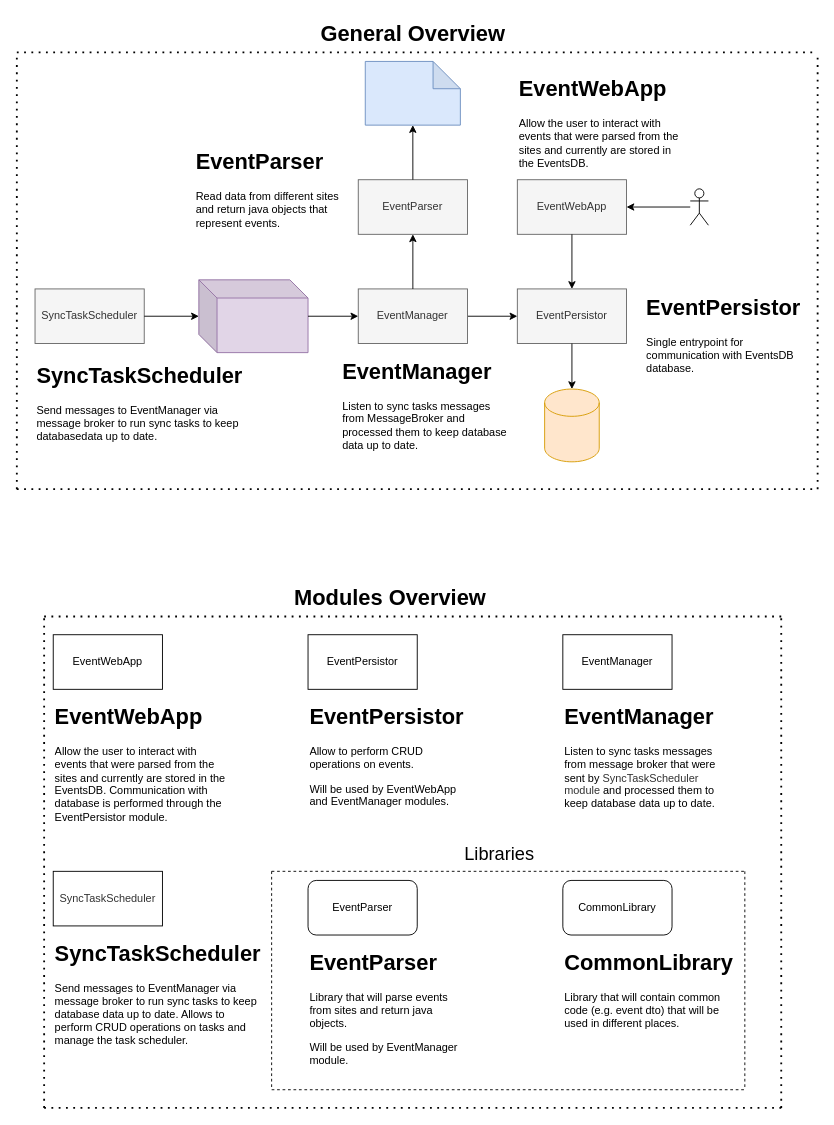
Image size: 834x1125. Some labels were removed from this diagram. The shapes that lost their labels are listed below. From the top down, each one's box as (x1, y1, x2, y2) in pixels, then its label:
(364, 61, 460, 125): SitesWithEvents
(689, 188, 708, 225): User
(198, 279, 308, 353): MessageBroker
(544, 388, 599, 462): EventsDB
